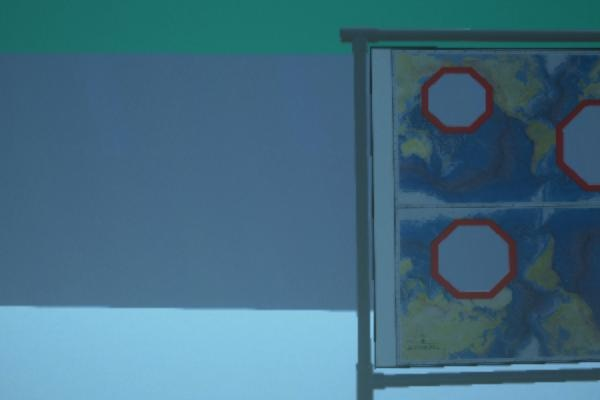torpille: (352, 28, 600, 388)
torpille_target: (431, 218, 517, 300), (420, 65, 494, 135), (552, 99, 600, 192)
